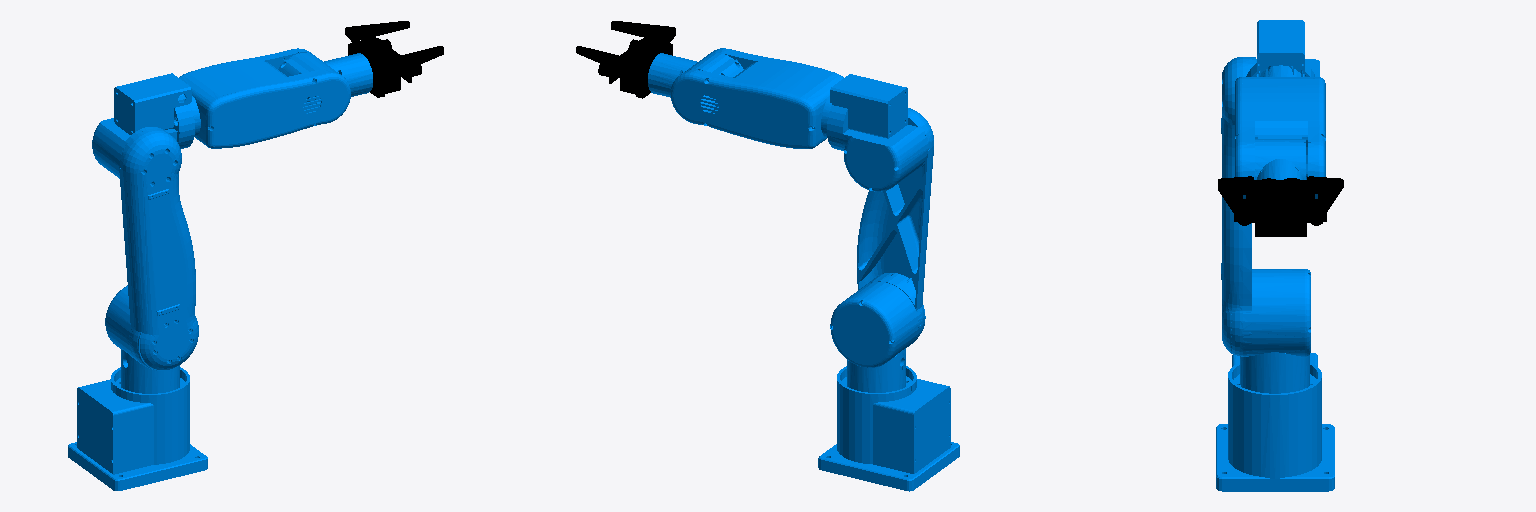
The robot description file, URDF, robot "new_arm":
<?xml version="1.0" encoding="utf-8"?>
<!-- This URDF was automatically created by SolidWorks to URDF Exporter! Originally created by [author] ([email redacted]) 
     Commit Version: 1.6.0-4-g7f85cfe  Build Version: 1.6.7995.38578
     For more information, please see http://wiki.ros.org/sw_urdf_exporter -->
<robot
  name="new_arm">
  <link
    name="base_link">
    <inertial>
      <origin
        xyz="0.0056916 -0.00029919 0.038488"
        rpy="0 0 0" />
      <mass
        value="0.20243" />
      <inertia
        ixx="0.00034311"
        ixy="-4.9307E-07"
        ixz="9.8523E-06"
        iyy="0.00038625"
        iyz="6.5934E-07"
        izz="0.00041025" />
    </inertial>
    <visual>
      <origin
        xyz="0 0 0"
        rpy="0 0 0" />
      <geometry>
        <mesh
          filename="package://new_arm/meshes/base_link.STL" />
      </geometry>
      <material
        name="">
        <color
          rgba="0 0.6 1 1" />
      </material>
    </visual>
    <collision>
      <origin
        xyz="0 0 0"
        rpy="0 0 0" />
      <geometry>
        <mesh
          filename="package://new_arm/meshes/base_link.STL" />
      </geometry>
    </collision>
  </link>
  <link
    name="1_Link">
    <inertial>
      <origin
        xyz="0.00032602 -0.0084115 0.041977"
        rpy="0 0 0" />
      <mass
        value="0.17634" />
      <inertia
        ixx="0.00023767"
        ixy="-1.7456E-07"
        ixz="-5.5171E-07"
        iyy="0.00022542"
        iyz="4.1372E-05"
        izz="0.00013393" />
    </inertial>
    <visual>
      <origin
        xyz="0 0 0"
        rpy="0 0 0" />
      <geometry>
        <mesh
          filename="package://new_arm/meshes/1_Link.STL" />
      </geometry>
      <material
        name="">
        <color
          rgba="0 0.6 1 1" />
      </material>
    </visual>
    <collision>
      <origin
        xyz="0 0 0"
        rpy="0 0 0" />
      <geometry>
        <mesh
          filename="package://new_arm/meshes/1_Link.STL" />
      </geometry>
    </collision>
  </link>
  <joint
    name="1_join"
    type="revolute">
    <origin
      xyz="0.014576 -0.00018396 0.0755"
      rpy="0 0 0" />
    <parent
      link="base_link" />
    <child
      link="1_Link" />
    <axis
      xyz="0 0 -1" />
    <limit
      lower="-3.1416"
      upper="3.1416"
      velocity="2.0"
      effort="10" />
  </joint>
  <link
    name="2_Link">
    <inertial>
      <origin
        xyz="-0.007247 -0.097993 0.0015259"
        rpy="0 0 0" />
      <mass
        value="0.11678" />
      <inertia
        ixx="0.00067709"
        ixy="-6.1629E-05"
        ixz="2.1653E-07"
        iyy="6.2336E-05"
        iyz="1.8723E-06"
        izz="0.00072619" />
    </inertial>
    <visual>
      <origin
        xyz="0 0 0"
        rpy="0 0 0" />
      <geometry>
        <mesh
          filename="package://new_arm/meshes/2_Link.STL" />
      </geometry>
      <material
        name="">
        <color
          rgba="0 0.6 1 1" />
      </material>
    </visual>
    <collision>
      <origin
        xyz="0 0 0"
        rpy="0 0 0" />
      <geometry>
        <mesh
          filename="package://new_arm/meshes/2_Link.STL" />
      </geometry>
    </collision>
  </link>
  <joint
    name="2_join"
    type="revolute">
    <origin
      xyz="5.3348E-05 -0.037716 0.068891"
      rpy="-1.5708 0 0" />
    <parent
      link="1_Link" />
    <child
      link="2_Link" />
    <axis
      xyz="0 0 -1" />
    <limit
      lower="-1.5708"
      upper="1.5708"
      velocity="2.0"
      effort="10" />
  </joint>
  <link
    name="3_Link">
    <inertial>
      <origin
        xyz="0.010989 -0.024273 0.030148"
        rpy="0 0 0" />
      <mass
        value="0.16947" />
      <inertia
        ixx="0.00017663"
        ixy="2.0513E-05"
        ixz="-1.4727E-05"
        iyy="0.00012469"
        iyz="3.2466E-05"
        izz="0.00018735" />
    </inertial>
    <visual>
      <origin
        xyz="0 0 0"
        rpy="0 0 0" />
      <geometry>
        <mesh
          filename="package://new_arm/meshes/3_Link.STL" />
      </geometry>
      <material
        name="">
        <color
          rgba="0 0.6 1 1" />
      </material>
    </visual>
    <collision>
      <origin
        xyz="0 0 0"
        rpy="0 0 0" />
      <geometry>
        <mesh
          filename="package://new_arm/meshes/3_Link.STL" />
      </geometry>
    </collision>
  </link>
  <joint
    name="3_join"
    type="revolute">
    <origin
      xyz="-0.015085 -0.19944 0.00475"
      rpy="0 0 0" />
    <parent
      link="2_Link" />
    <child
      link="3_Link" />
    <axis
      xyz="0 0 1" />
    <limit
      lower="-2.5"
      upper="2.5"
      velocity="2.0"
      effort="10" />
  </joint>
  <link
    name="4_Link">
    <inertial>
      <origin
        xyz="0.0006214 0.0010286 0.076283"
        rpy="0 0 0" />
      <mass
        value="0.15492" />
      <inertia
        ixx="0.00060111"
        ixy="-7.332E-07"
        ixz="1.8098E-06"
        iyy="0.0005707"
        iyz="-5.1565E-06"
        izz="0.00014294" />
    </inertial>
    <visual>
      <origin
        xyz="0 0 0"
        rpy="0 0 0" />
      <geometry>
        <mesh
          filename="package://new_arm/meshes/4_Link.STL" />
      </geometry>
      <material
        name="">
        <color
          rgba="0 0.6 1 1" />
      </material>
    </visual>
    <collision>
      <origin
        xyz="0 0 0"
        rpy="0 0 0" />
      <geometry>
        <mesh
          filename="package://new_arm/meshes/4_Link.STL" />
      </geometry>
    </collision>
  </link>
  <joint
    name="4_join"
    type="revolute">
    <origin
      xyz="0.038498 -0.023499 0.0379"
      rpy="-1.5708 0 -1.5708" />
    <parent
      link="3_Link" />
    <child
      link="4_Link" />
    <axis
      xyz="0 0 -1" />
    <limit
      lower="-3.1416"
      upper="3.1416"
      velocity="2.5"
      effort="10" />
  </joint>
  <link
    name="5_Link">
    <inertial>
      <origin
        xyz="0.027378 -3.8973E-05 0.02564"
        rpy="0 0 0" />
      <mass
        value="0.083982" />
      <inertia
        ixx="2.8642E-05"
        ixy="1.3349E-08"
        ixz="-6.4546E-06"
        iyy="6.8069E-05"
        iyz="1.7636E-08"
        izz="6.9155E-05" />
    </inertial>
    <visual>
      <origin
        xyz="0 0 0"
        rpy="0 0 0" />
      <geometry>
        <mesh
          filename="package://new_arm/meshes/5_Link.STL" />
      </geometry>
      <material
        name="">
        <color
          rgba="0 0.6 1 1" />
      </material>
    </visual>
    <collision>
      <origin
        xyz="0 0 0"
        rpy="0 0 0" />
      <geometry>
        <mesh
          filename="package://new_arm/meshes/5_Link.STL" />
      </geometry>
    </collision>
  </link>
  <joint
    name="5_join"
    type="revolute">
    <origin
      xyz="-7.14E-05 0.029 0.16752"
      rpy="1.5708 -1.5708 0" />
    <parent
      link="4_Link" />
    <child
      link="5_Link" />
    <axis
      xyz="0 0 -1" />
    <limit
      lower="-2.5"
      upper="2.5"
      velocity="2.5"
      effort="10" />
  </joint>
  <link
    name="6_Link">
    <inertial>
      <origin
        xyz="0.0073756402509812 0.000865242779408276 0.0202068169966816"
        rpy="0 0 0" />
      <mass
        value="0.0930953314559143" />
      <inertia
        ixx="6.34028894812875E-05"
        ixy="-6.83112393814444E-07"
        ixz="-4.18895930504928E-06"
        iyy="3.13825063977606E-05"
        iyz="-7.33373636380585E-07"
        izz="6.18259321789606E-05" />
    </inertial>
    <visual>
      <origin
        xyz="0 0 0"
        rpy="0 0 0" />
      <geometry>
        <mesh
          filename="package://new_arm/meshes/6_Link.STL" />
      </geometry>
      <material
        name="">
        <color
          rgba="0 0 0 1" />
      </material>
    </visual>
    <collision>
      <origin
        xyz="0 0 0"
        rpy="0 0 0" />
      <geometry>
        <mesh
          filename="package://new_arm/meshes/6_Link.STL" />
      </geometry>
    </collision>
  </link>
  <joint
    name="6_join"
    type="revolute">
    <origin
      xyz="0.062427 -7.14E-05 0.029"
      rpy="-1.5708 0 -1.5708" />
    <parent
      link="5_Link" />
    <child
      link="6_Link" />
    <axis
      xyz="0 0 -1" />
    <limit
      lower="-3.1416"
      upper="3.1416"
      velocity="3.0"
      effort="10" />
  </joint>

  <!-- ros2_control 配置 -->
  <ros2_control name="FakeHardware" type="system">
    <hardware>
      <plugin>fake_components/GenericSystem</plugin>
      <param name="mock_sensor_commands">false</param>
      <param name="state_following_offset">0.0</param>
    </hardware>
    <joint name="1_join">
      <command_interface name="position">
        <param name="min">-3.1416</param>
        <param name="max">3.1416</param>
      </command_interface>
      <state_interface name="position"/>
      <state_interface name="velocity"/>
    </joint>
    <joint name="2_join">
      <command_interface name="position">
        <param name="min">-3.1416</param>
        <param name="max">3.1416</param>
      </command_interface>
      <state_interface name="position"/>
      <state_interface name="velocity"/>
    </joint>
    <joint name="3_join">
      <command_interface name="position">
        <param name="min">-3.1416</param>
        <param name="max">3.1416</param>
      </command_interface>
      <state_interface name="position"/>
      <state_interface name="velocity"/>
    </joint>
    <joint name="4_join">
      <command_interface name="position">
        <param name="min">-3.1416</param>
        <param name="max">3.1416</param>
      </command_interface>
      <state_interface name="position"/>
      <state_interface name="velocity"/>
    </joint>
    <joint name="5_join">
      <command_interface name="position">
        <param name="min">-3.1416</param>
        <param name="max">3.1416</param>
      </command_interface>
      <state_interface name="position"/>
      <state_interface name="velocity"/>
    </joint>
    <joint name="6_join">
      <command_interface name="position">
        <param name="min">-3.1416</param>
        <param name="max">3.1416</param>
      </command_interface>
      <state_interface name="position"/>
      <state_interface name="velocity"/>
    </joint>
  </ros2_control>

</robot>

--- Facts derived from the render (not from the file) ---
The picture shows the robot from 3 angles, left to right: view 1: azimuth 30°, elevation 25°; view 2: azimuth 150°, elevation 25°; view 3: azimuth 270°, elevation 25°; orthographic projection.
Robot: new_arm — 7 links, 6 joints (6 revolute); root link base_link; default pose: all joints at 0.
Visible links, largest first — view 1: 2_Link, base_link, 4_Link, 3_Link, 6_Link, 1_Link, 5_Link; view 2: base_link, 4_Link, 3_Link, 2_Link, 1_Link, 6_Link, 5_Link; view 3: base_link, 1_Link, 4_Link, 6_Link, 2_Link, 3_Link, 5_Link.
Boxes of the visible links, x1,y1,x2,y2 form: 2_Link: (119, 128, 198, 370); base_link: (68, 367, 207, 490); 4_Link: (177, 48, 350, 148); 3_Link: (92, 73, 194, 178); 6_Link: (345, 21, 443, 97); 1_Link: (105, 285, 179, 393); 5_Link: (278, 53, 372, 111); base_link: (818, 366, 959, 491); 4_Link: (671, 48, 843, 148); 3_Link: (827, 74, 928, 191); 2_Link: (857, 108, 933, 342); 1_Link: (830, 282, 925, 392); 6_Link: (576, 21, 675, 98); 5_Link: (648, 53, 743, 111); base_link: (1216, 353, 1334, 491); 1_Link: (1231, 269, 1310, 393); 4_Link: (1235, 65, 1325, 198); 6_Link: (1218, 176, 1343, 236); 2_Link: (1221, 57, 1251, 356); 3_Link: (1246, 20, 1319, 76); 5_Link: (1255, 135, 1305, 179).
Size in the robot's own frame: 0.3975 by 0.1099 by 0.4163 metres.
7 mesh visuals loaded from 7 distinct referenced files (7 binary STL).
